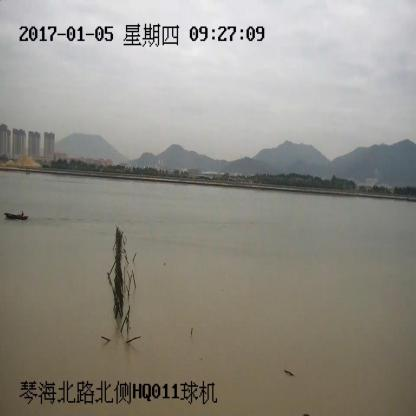Fishing Boat: (4, 211, 29, 221)
